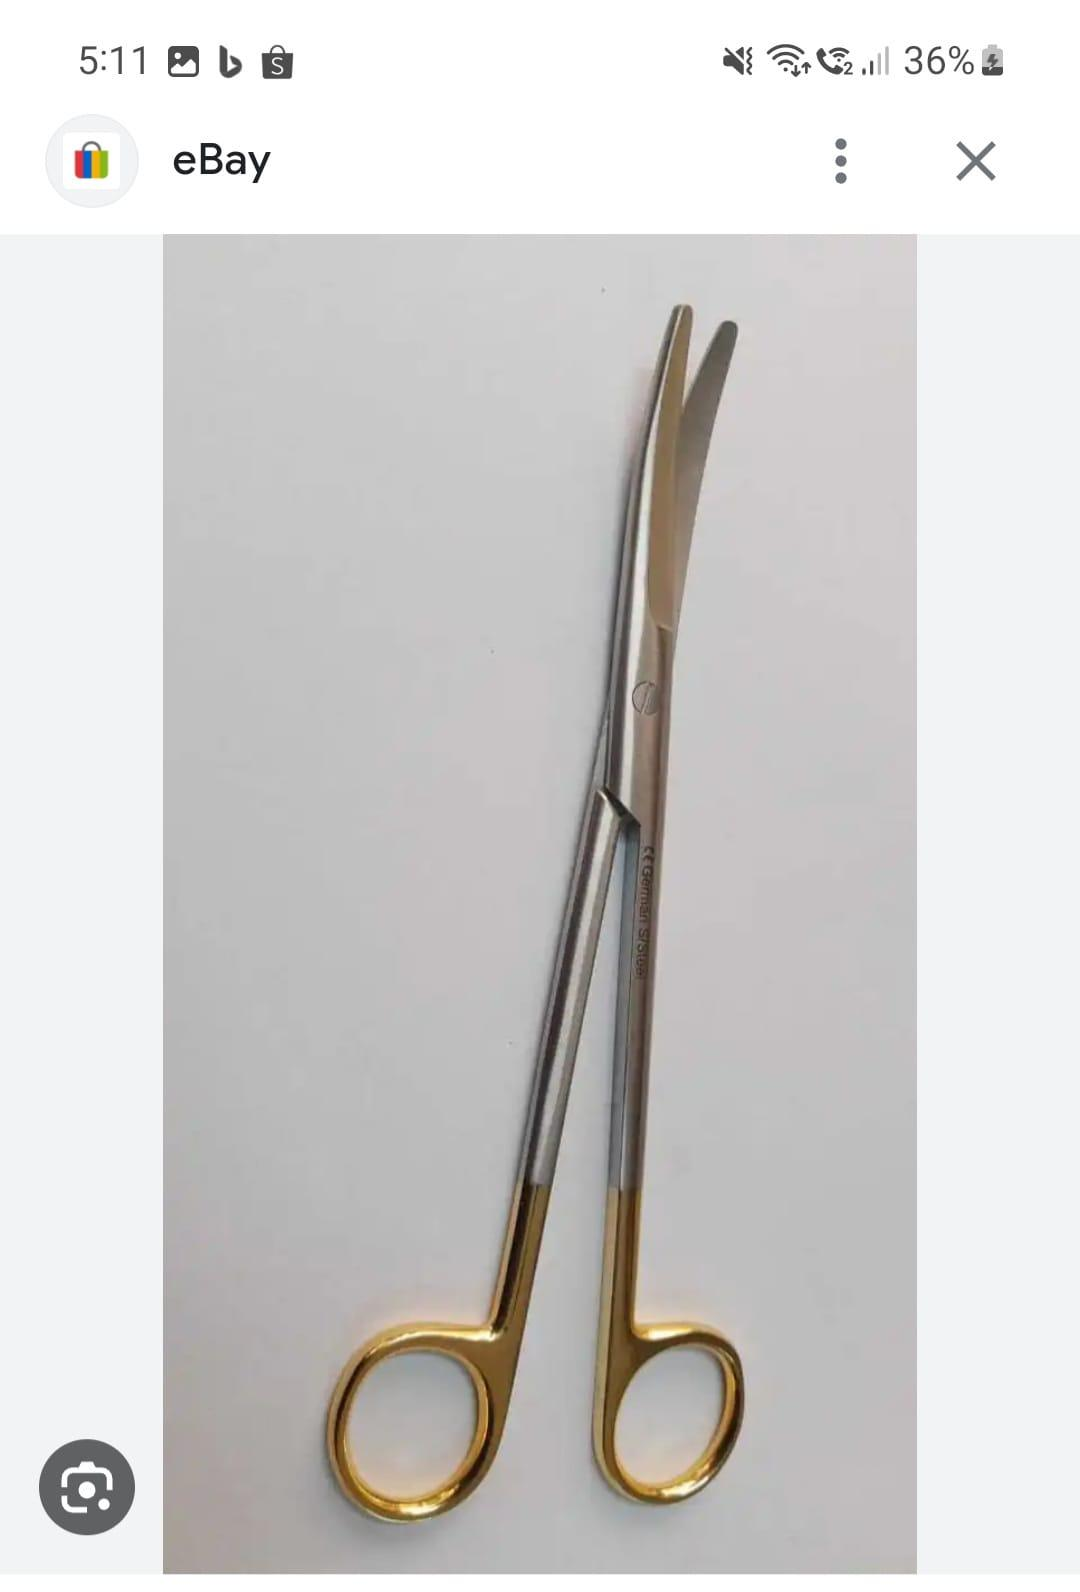Curved Mayo: (308, 275, 798, 1528)
